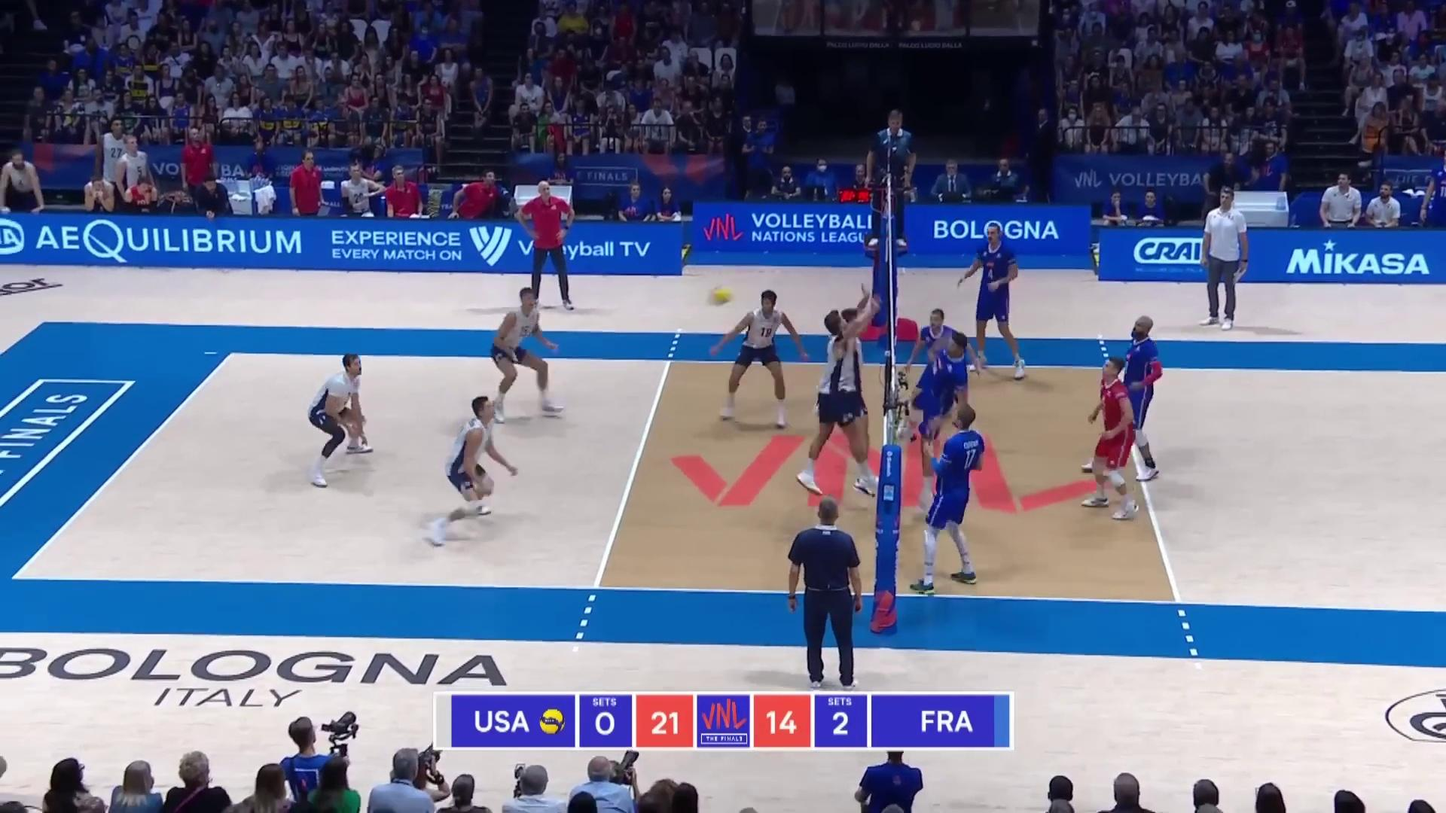player: (797, 307, 881, 495), (1085, 317, 1165, 509), (912, 405, 992, 590), (434, 398, 522, 545), (825, 298, 882, 496), (718, 292, 802, 424), (956, 225, 1027, 380), (920, 330, 974, 516), (486, 289, 564, 416), (1081, 356, 1142, 517), (309, 352, 373, 489), (912, 309, 972, 430)
refree: (787, 502, 868, 684), (866, 111, 914, 249)
